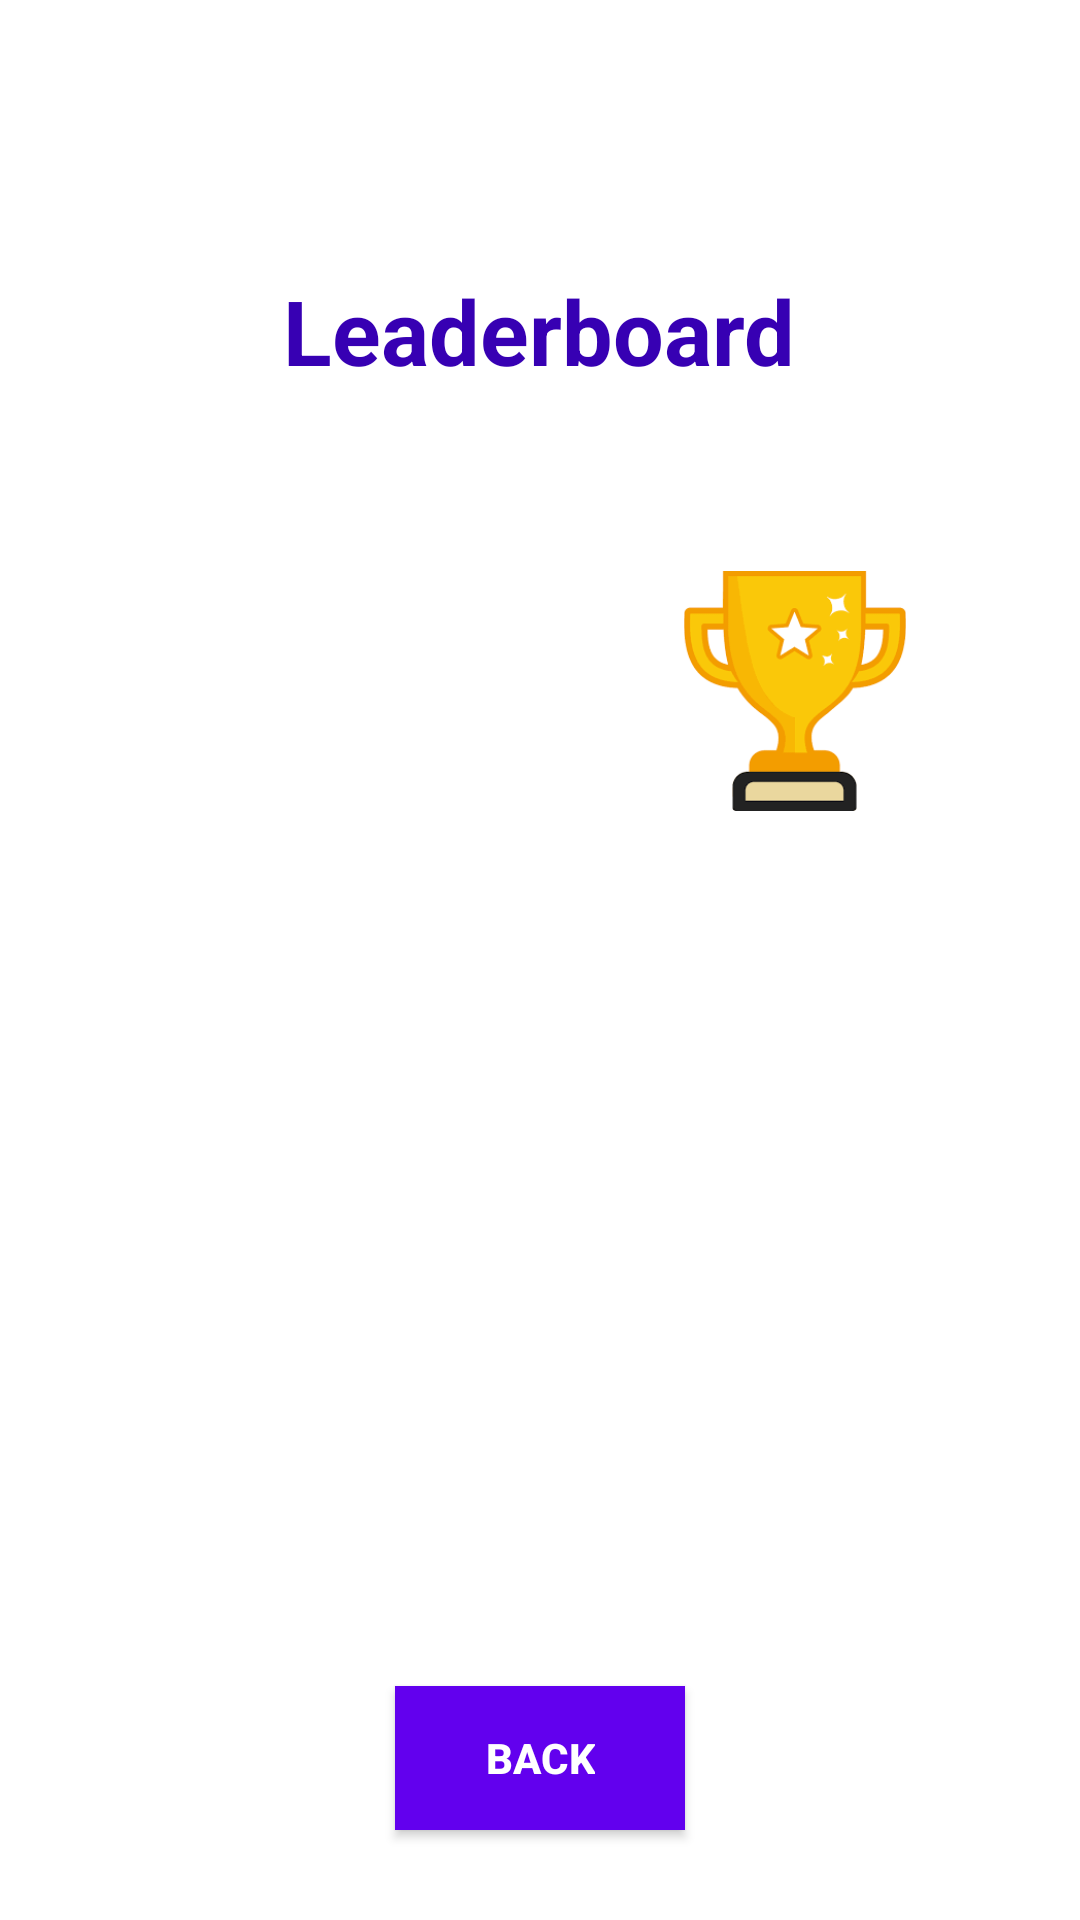

Icon click points for this 1080x1920 phone screenshot, format (x=x, y=y):
trophy: (x=795, y=691)
